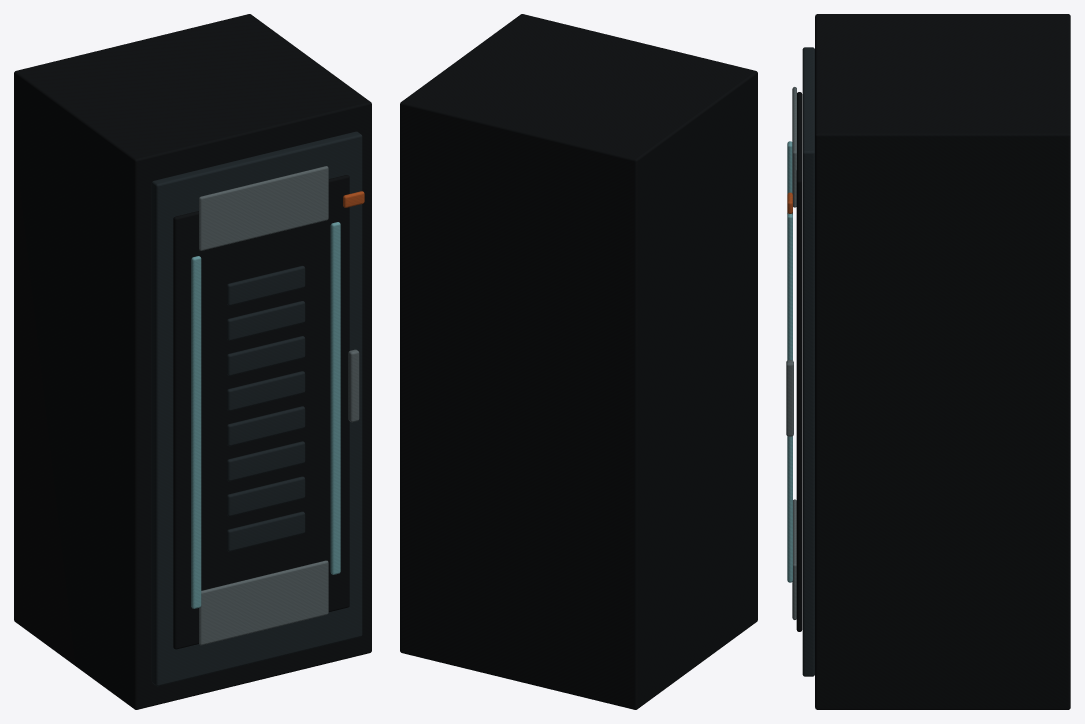
Rendered from ServerRack.fbx.
The picture shows the model from 3 angles, left to right: view 1: azimuth 30°, elevation 25°; view 2: azimuth 150°, elevation 25°; view 3: azimuth 270°, elevation 25°; orthographic projection. The views are drawn at different scales.
Parts seen in each view (by area): view 1: ServerRack_Mesh; view 2: ServerRack_Mesh; view 3: ServerRack_Mesh.
Part boxes in pixels (x1=…): ServerRack_Mesh: x1=14, y1=14, x2=371, y2=709; ServerRack_Mesh: x1=400, y1=14, x2=757, y2=709; ServerRack_Mesh: x1=786, y1=14, x2=1070, y2=709.
Size of the model in its own units: 92 by 204 by 91.25.
Materials: 5 (5 with a texture image).
